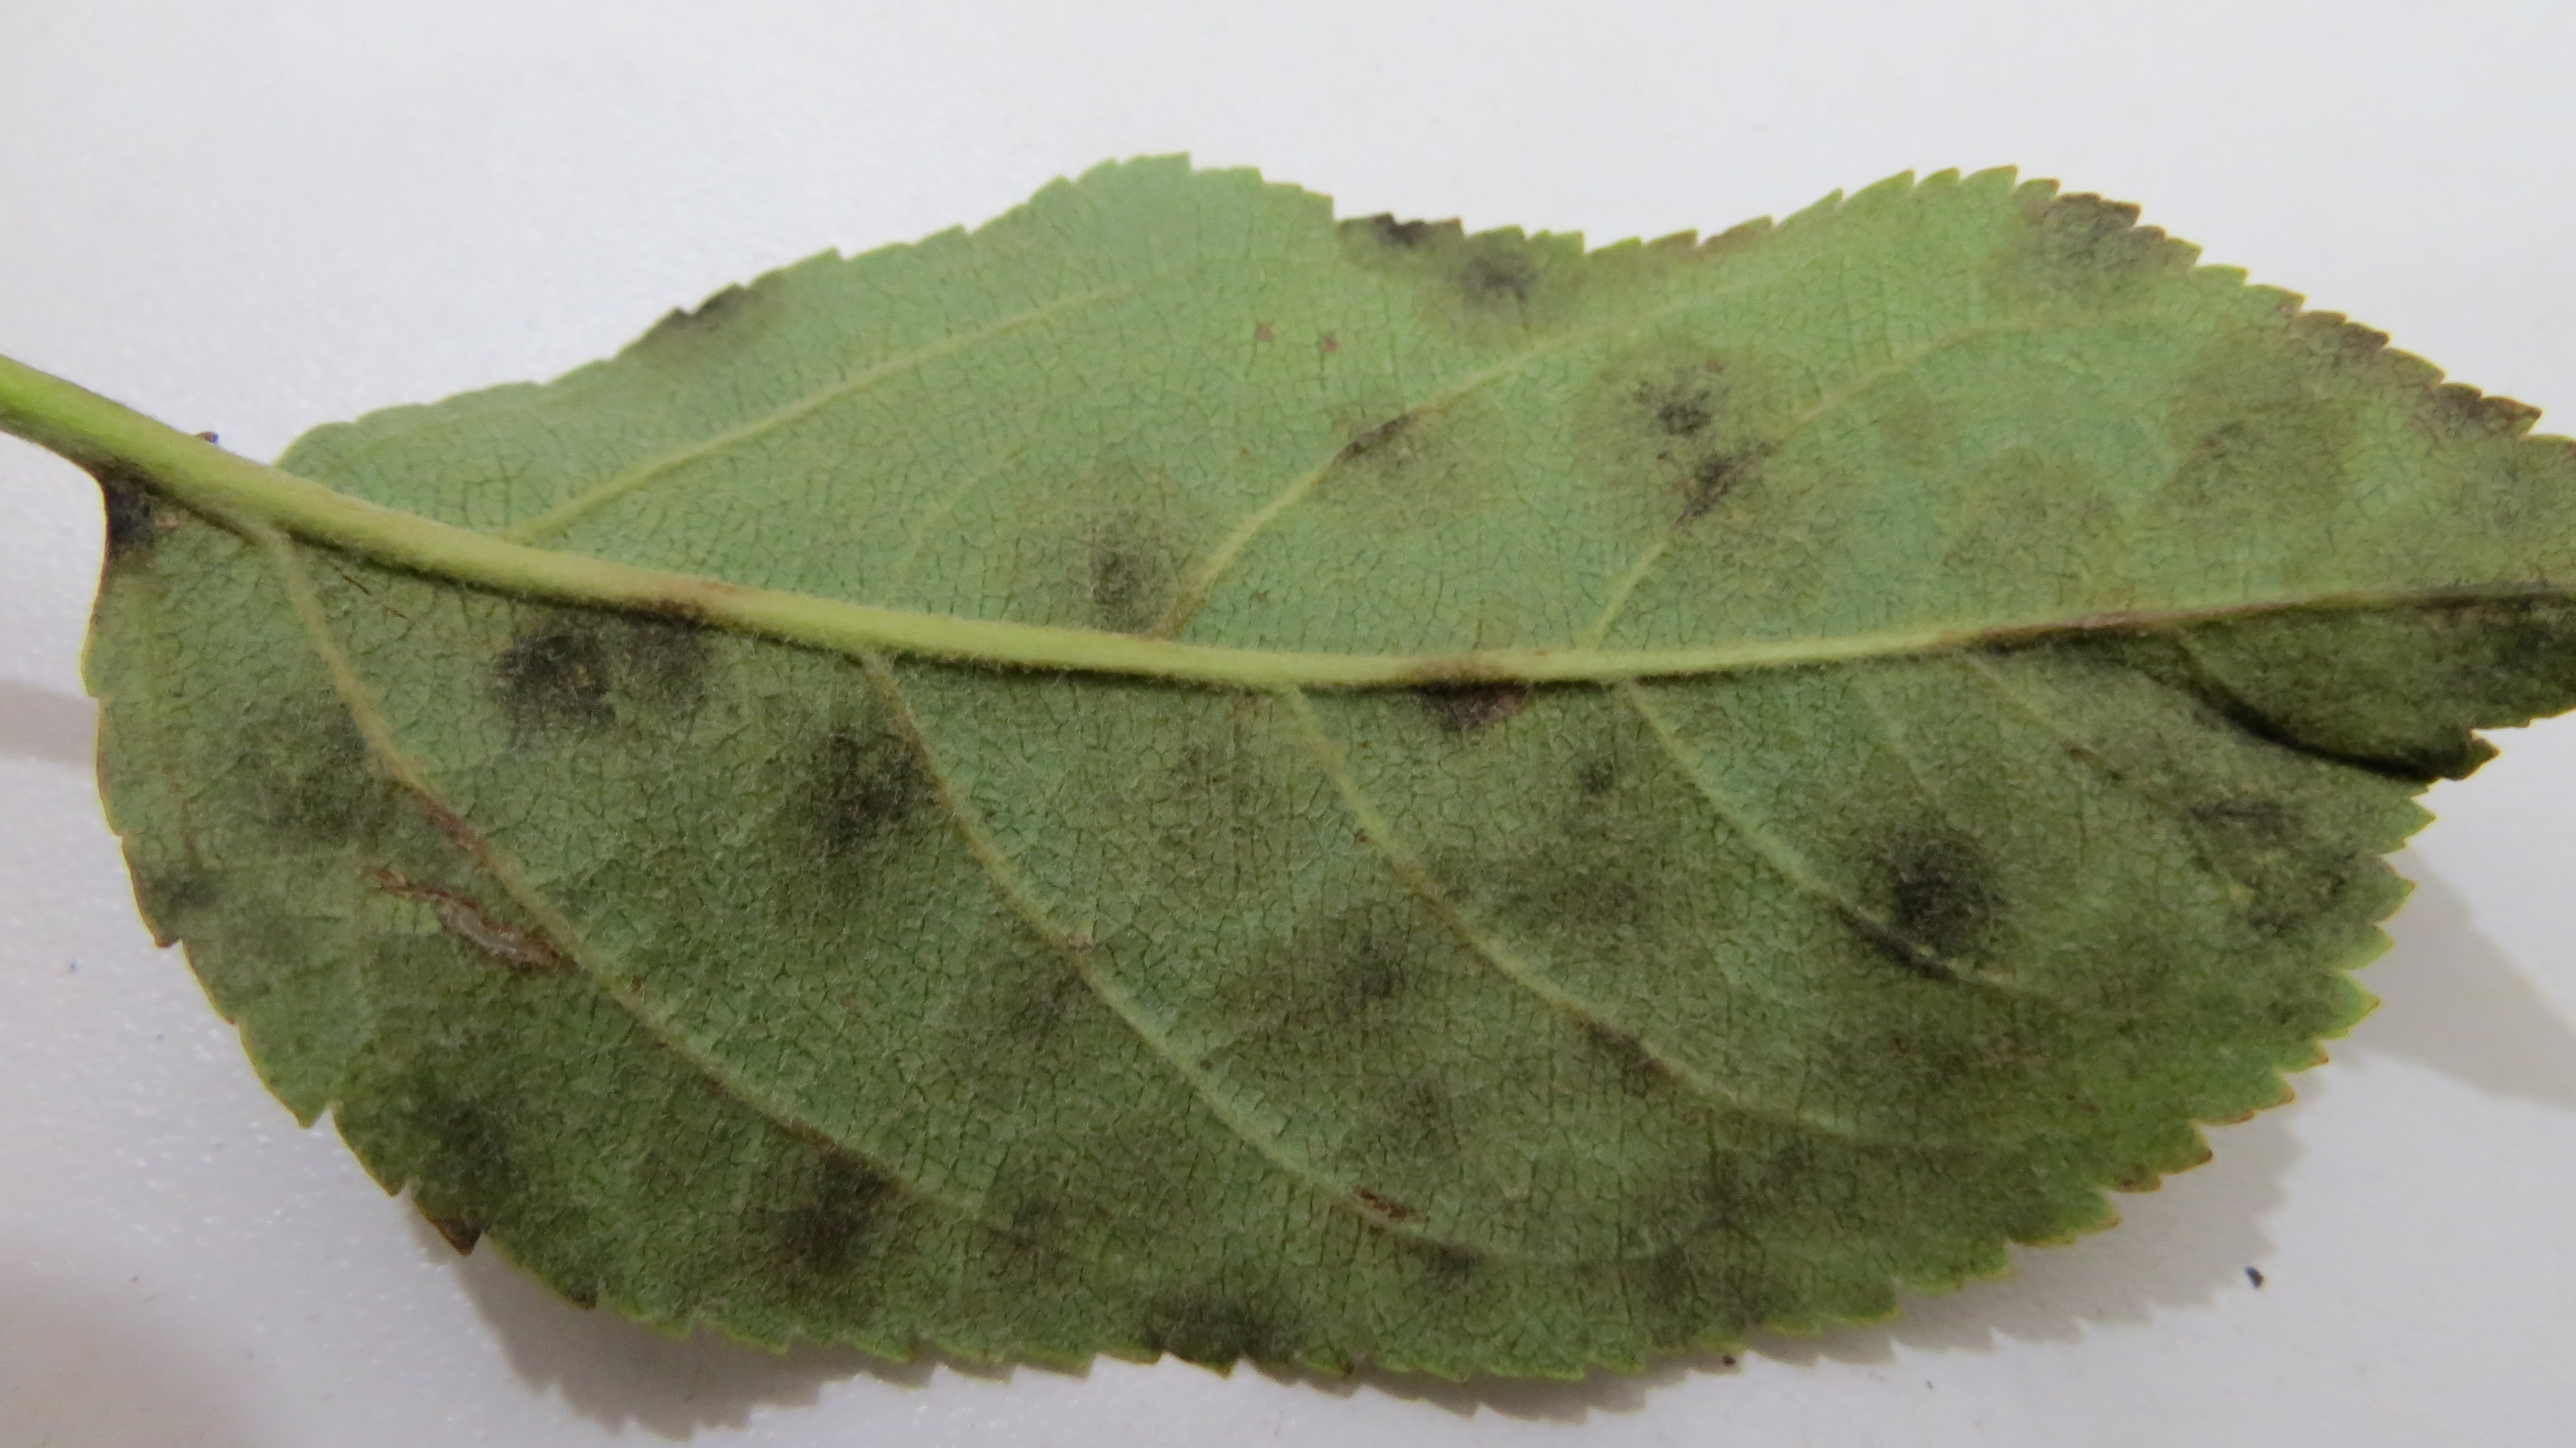sarna: (373, 1044, 580, 1310), (761, 664, 955, 944), (1640, 1121, 1858, 1340), (2185, 777, 2396, 1004), (1617, 347, 1819, 575), (1822, 797, 2028, 997), (2150, 611, 2374, 789), (2128, 361, 2330, 554), (743, 1124, 920, 1344), (1476, 825, 1709, 984), (1000, 473, 1208, 641), (242, 666, 421, 859), (1829, 972, 2013, 1158), (1143, 676, 1316, 869), (1980, 582, 2178, 749), (968, 905, 1157, 1076), (465, 566, 623, 770), (1943, 439, 2141, 598), (1260, 869, 1440, 1043), (964, 1129, 1116, 1326), (1343, 193, 1566, 326), (96, 804, 260, 982), (1120, 1239, 1318, 1384), (1987, 168, 2180, 317), (1407, 623, 1548, 774), (1329, 400, 1491, 529), (628, 575, 745, 749), (1555, 988, 1693, 1126), (637, 262, 801, 375), (1348, 1050, 1476, 1179), (1530, 719, 1656, 837)
